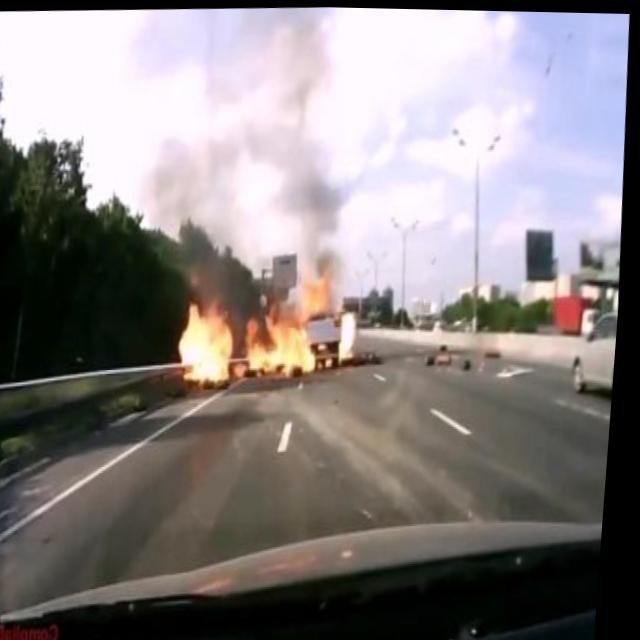fire: (178, 262, 339, 390), (338, 296, 367, 363)
